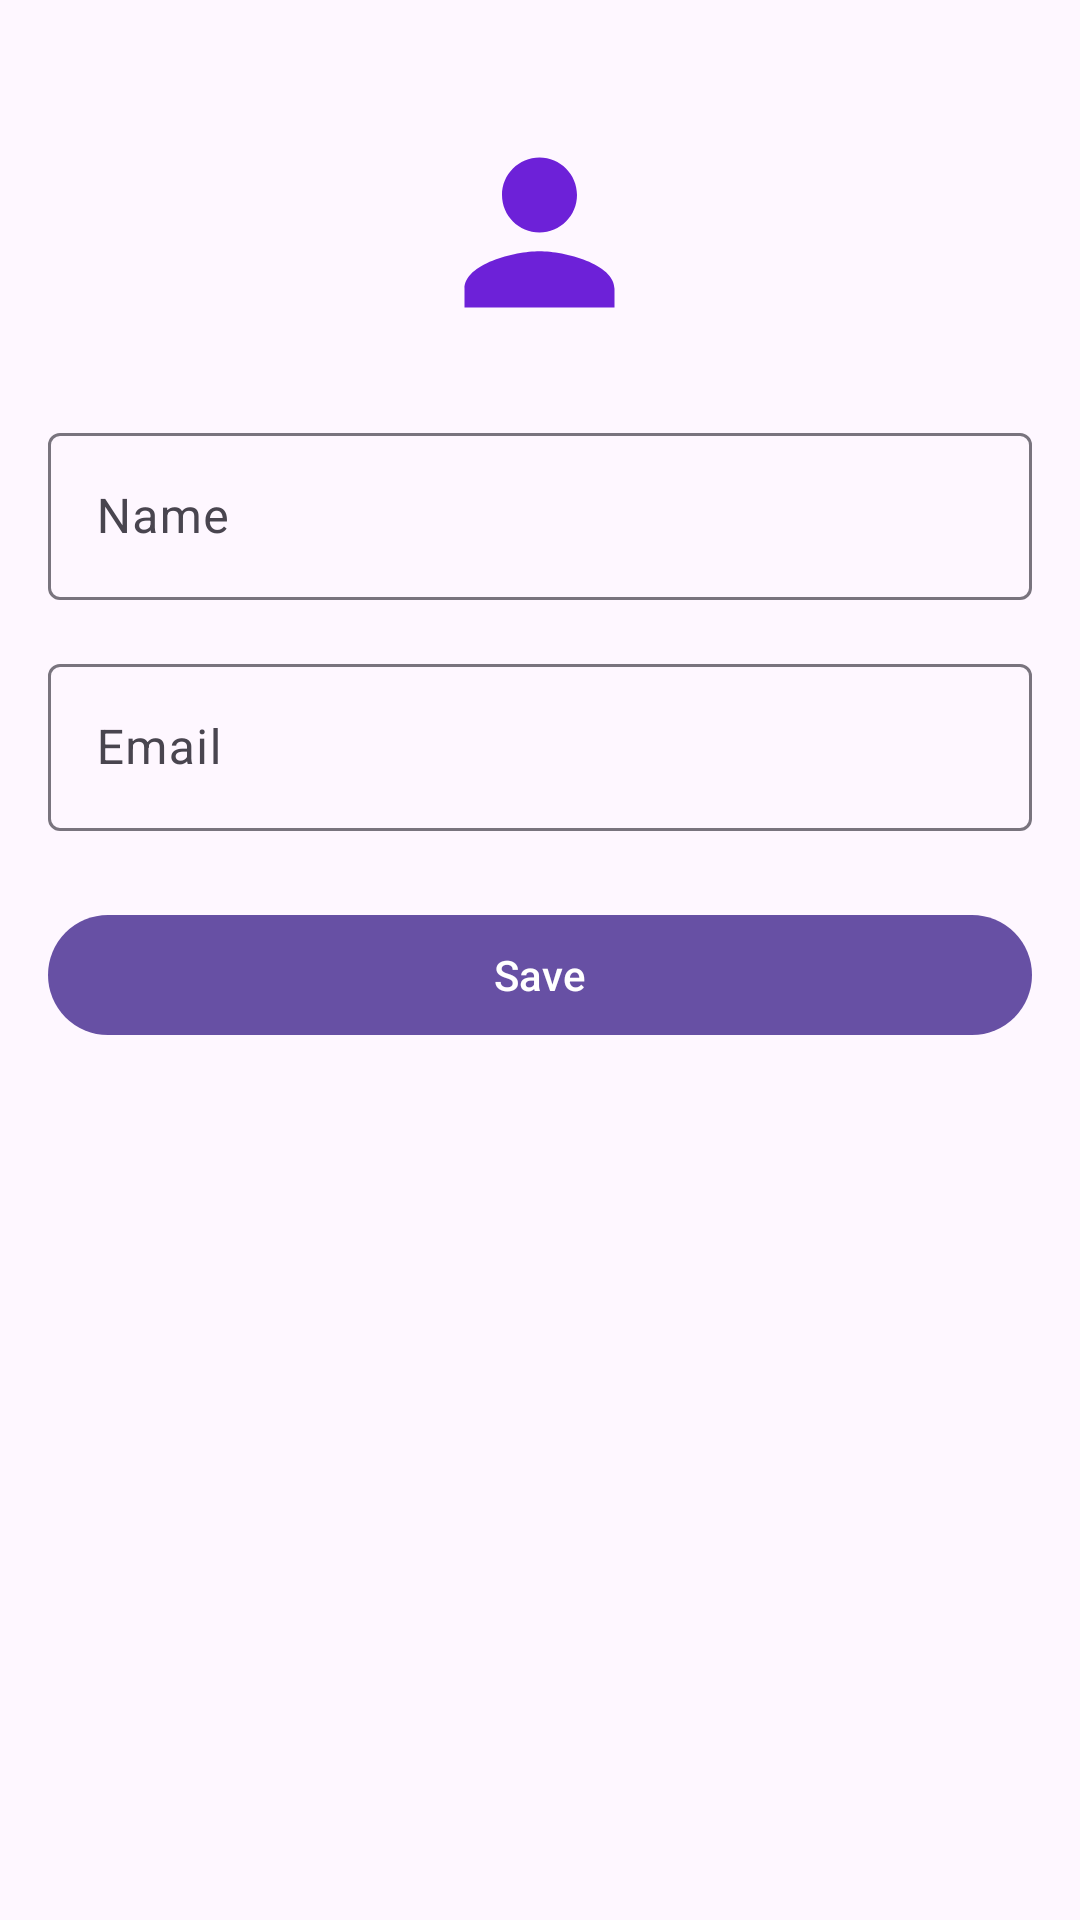

Named icons in this screenshot (1080*1920) and their bounding boxes, (x1, y1, x2, y2):
person: (464, 157, 615, 308)
